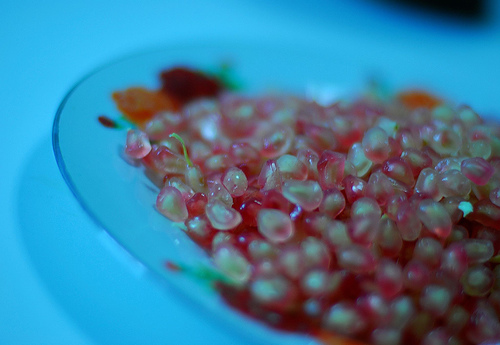pomogranate: (125, 88, 499, 344)
